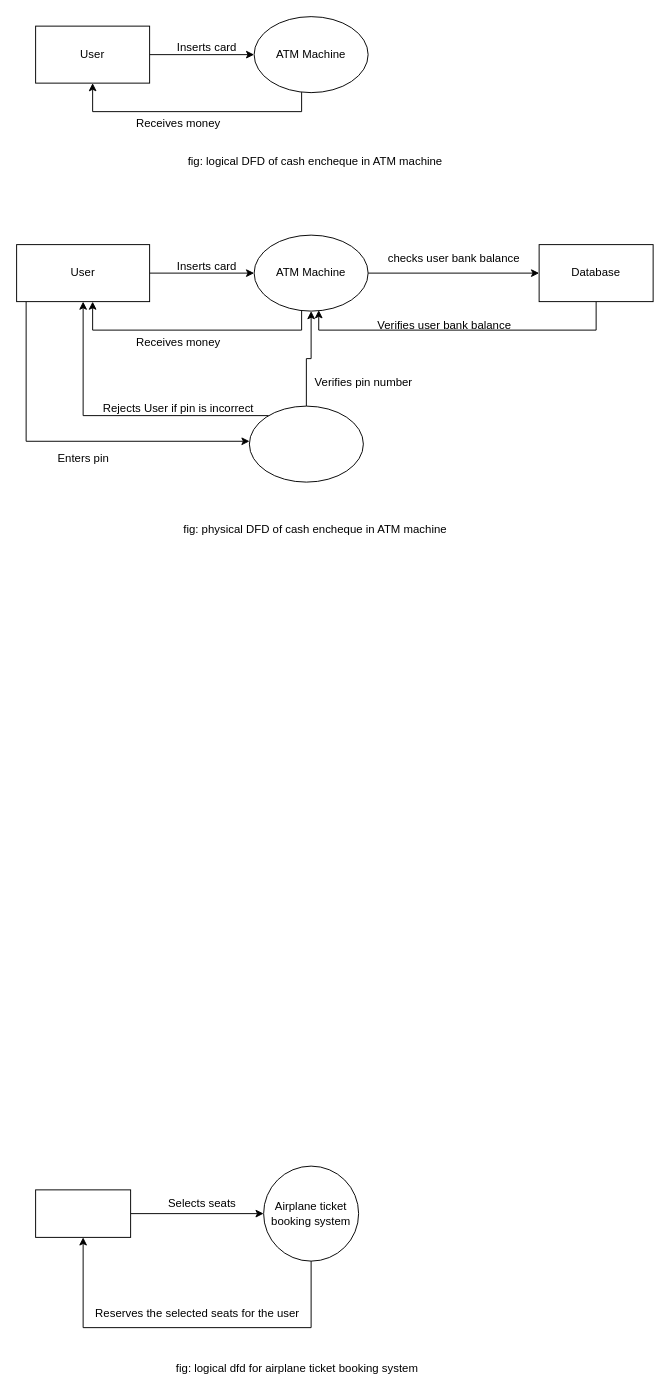
The diagram is 670 pixels wide and 1399 high, and some of its shapes have lost their labels. Each missing label, with the box of its shape:
Customer: (35, 1189, 131, 1237)
User Verification: (248, 405, 363, 482)
